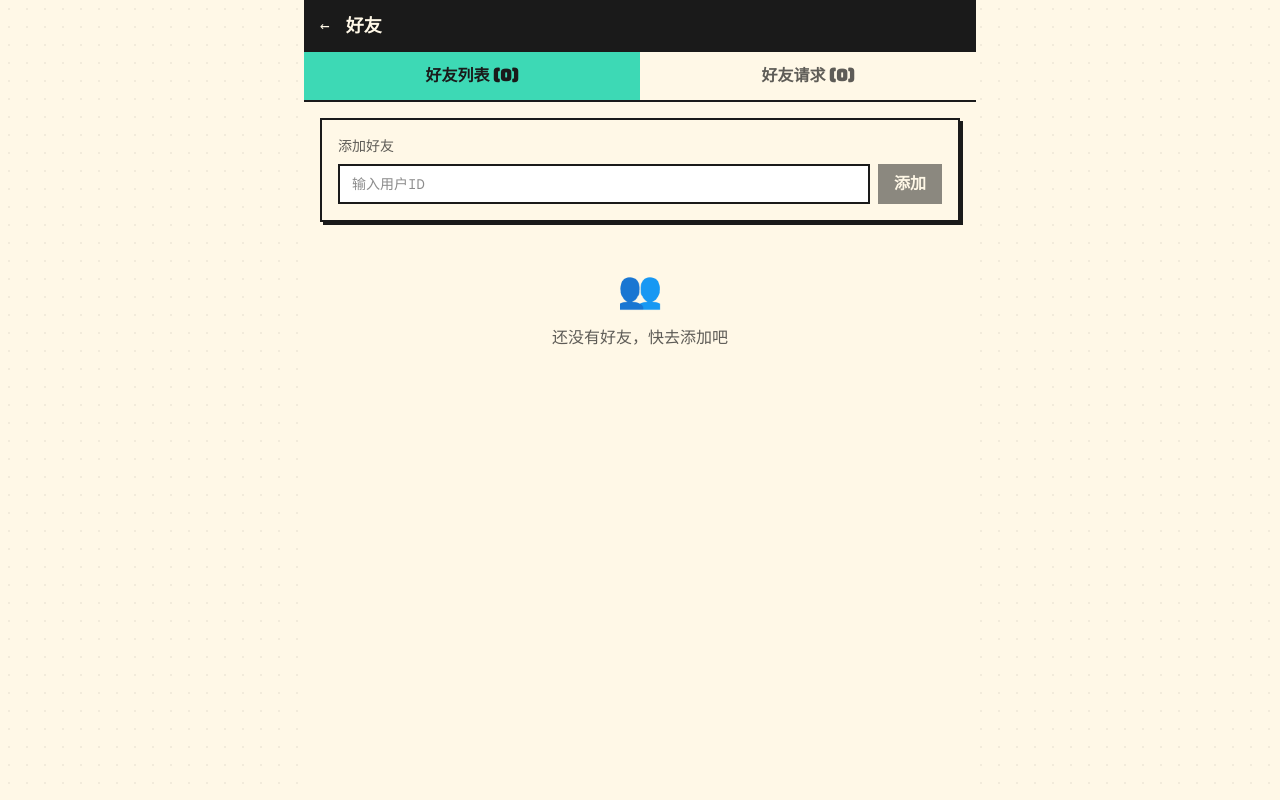
FriendsPage 好友页 › 切换到请求 tab 显示请求列表，请求为空时显示空状态
The width and height of the screenshot is (1280, 800).
# 切换到好友请求 tab（默认好友 tab，需点击切换）
Click the tab "好友请求 (0)": coordinates (808, 76) [640,52,976,100]
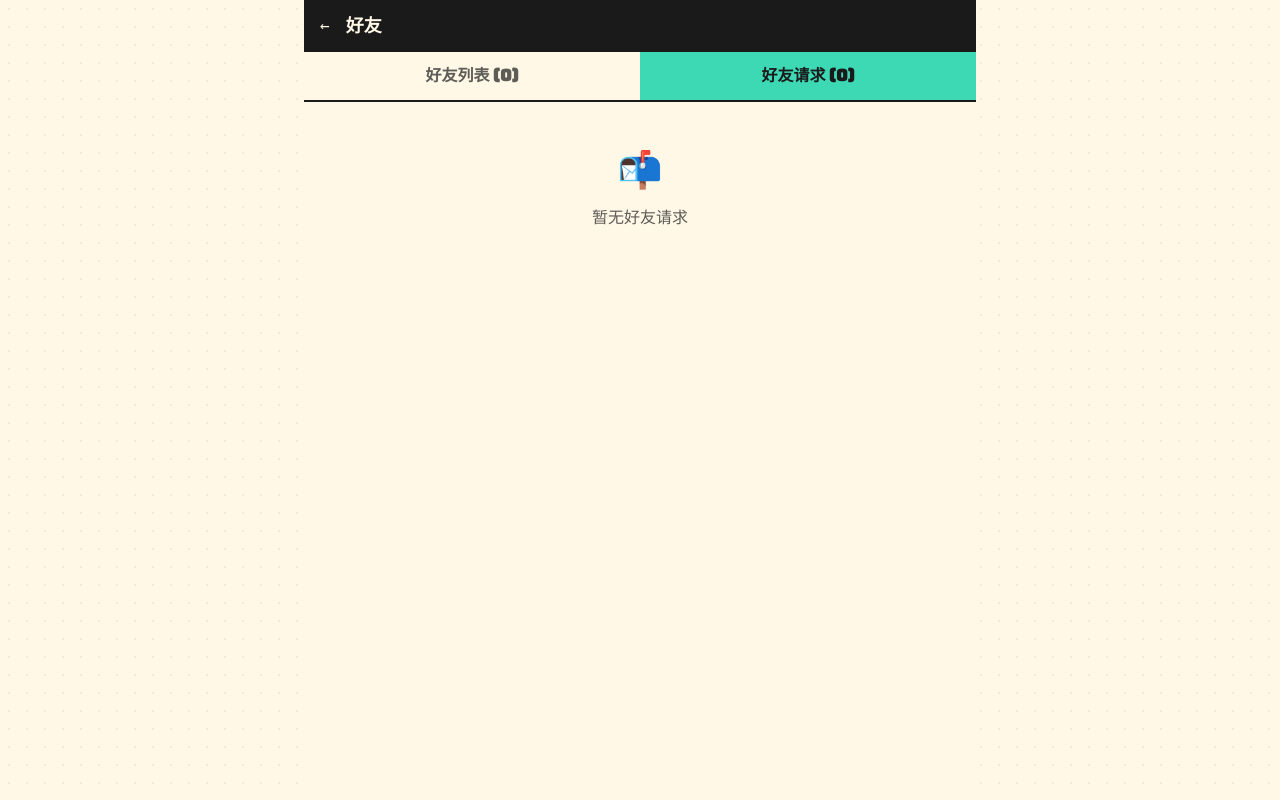
Expected: the text "暂无好友请求" is shown, [592,207,688,228]
